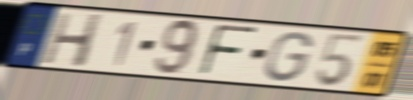1: (112, 20, 138, 67)
5: (313, 32, 367, 90)
9: (151, 17, 201, 78)
F: (196, 22, 261, 79)
G: (263, 30, 315, 84)
H: (39, 11, 106, 70)
